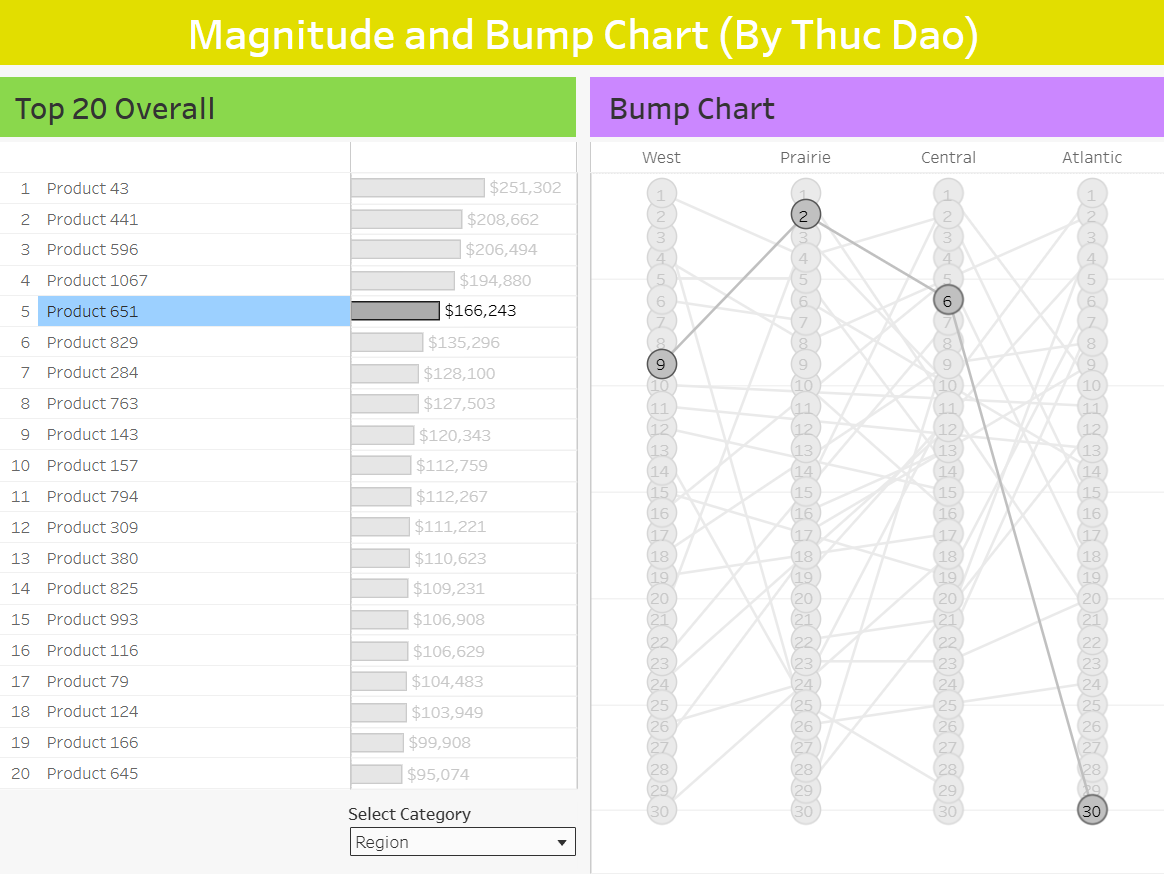

What the dashboard file says about the page in this screenshot:
{"tool":"tableau","page":{"name":"Magnitude and Bump Chart","canvas":[800,600],"ordinal":0},"visuals":[{"type":"title","box":[8,8,784,48]},{"type":"worksheet","title":"Top 20 Overall","mark":"Automatic","rows":["Product Name"],"cols":["Calculation_5621225095644766","Sales"],"box":[8,56,392,482.9]},{"type":"worksheet","title":"Bump Chart","mark":"Line","cols":["Calculation_3471225094359462"],"box":[400,56,392,536]},{"type":"legend","title":"Top 20 Overall","param":"[federated.03oba321ynmfqf19pgg1p1snoror].[attr:Product Category:nk]","box":[8,538.9,164,53]},{"type":"parameter","param":"[Parameters].[Parameter 1]","box":[172,538.9,228,53]}]}

Visuals, with their boxes in screenshot pixels (x1, y1, x2, y2), scaled from the page's 800x600 canvas onto the 1164x874 screenshot:
title: x1=12 y1=12 x2=1152 y2=82
"Top 20 Overall" worksheet: x1=12 y1=82 x2=582 y2=785
"Bump Chart" worksheet (Line marks): x1=582 y1=82 x2=1152 y2=862
"Top 20 Overall" legend: x1=12 y1=785 x2=250 y2=862
parameter: x1=250 y1=785 x2=582 y2=862
